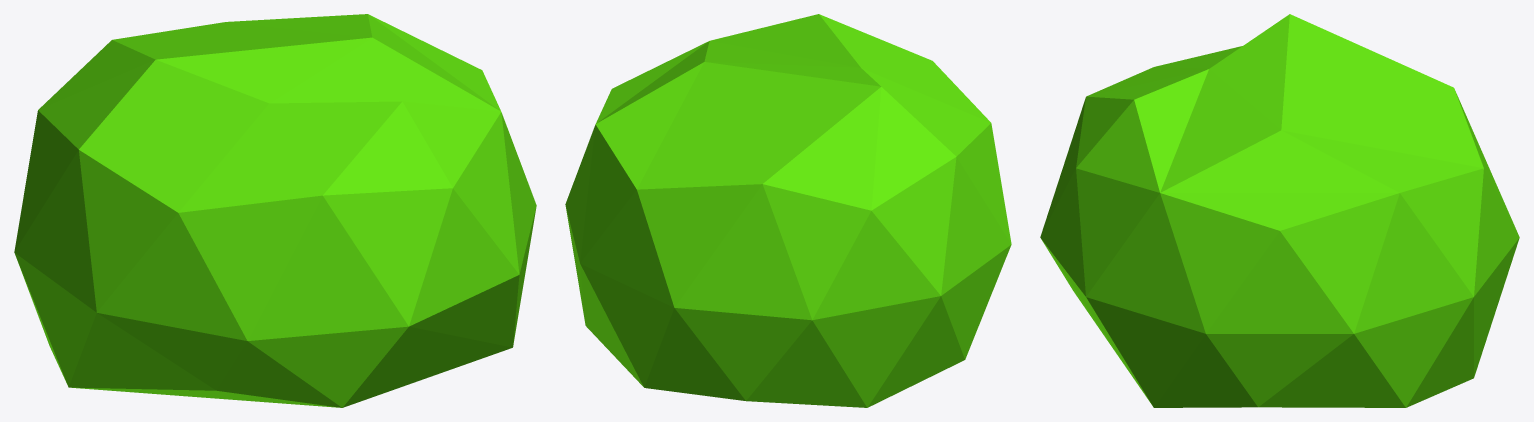
The model's file is bush1.fbx.
The picture shows the model from 3 angles, left to right: view 1: azimuth 30°, elevation 25°; view 2: azimuth 150°, elevation 25°; view 3: azimuth 270°, elevation 25°; orthographic projection. The views are drawn at different scales.
Parts seen in each view (by area): view 1: Icosphere; view 2: Icosphere; view 3: Icosphere.
Part boxes in pixels (box(x1,y1,x2,y2)): Icosphere: box(14, 14, 536, 407); Icosphere: box(565, 14, 1011, 407); Icosphere: box(1040, 14, 1519, 407).
Size of the model in its own units: 190 by 132 by 200.
